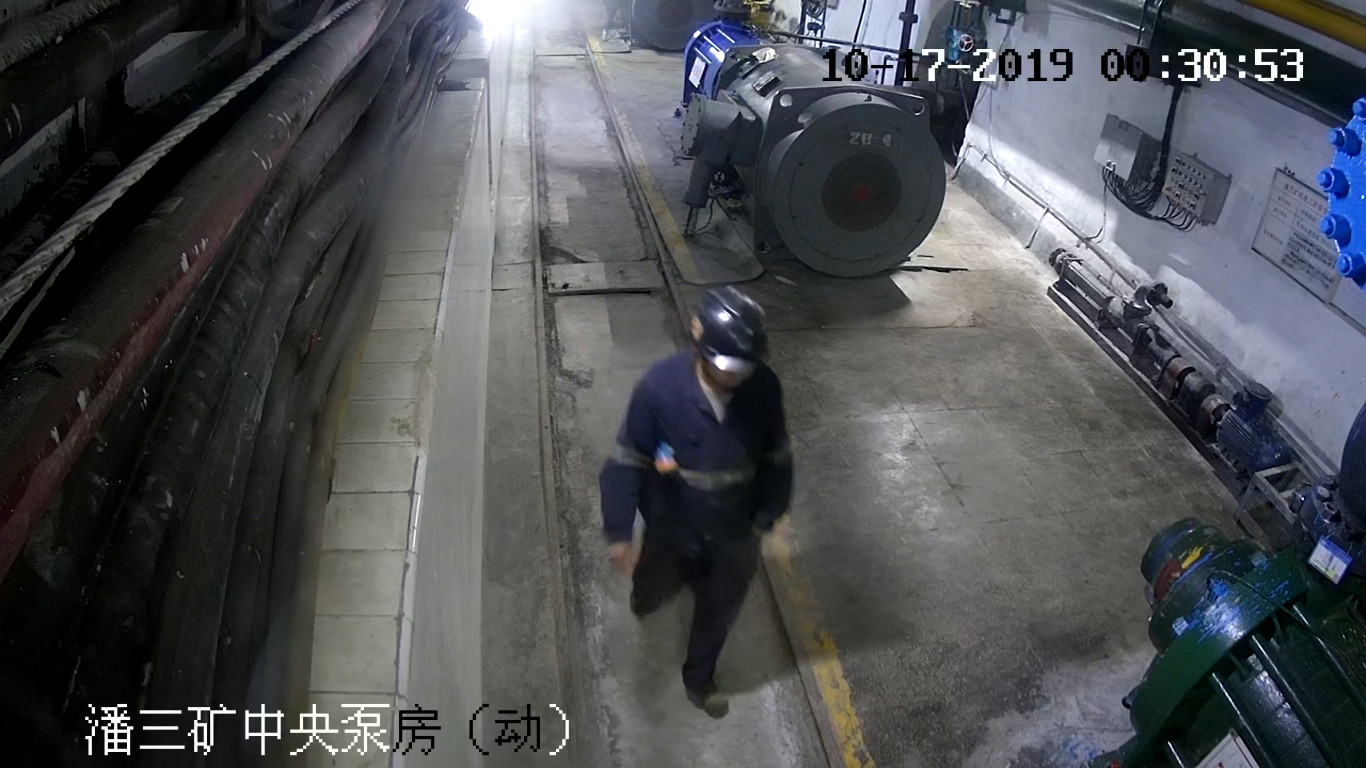helmet: (689, 285, 768, 372)
